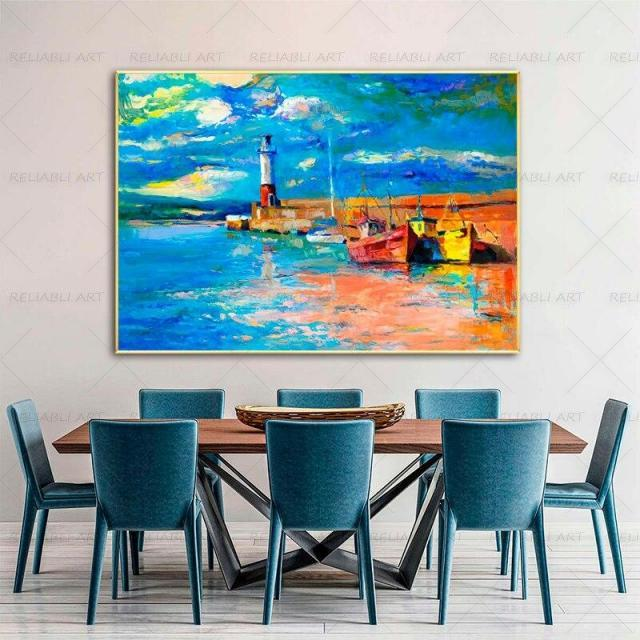painting: (115, 71, 517, 351)
